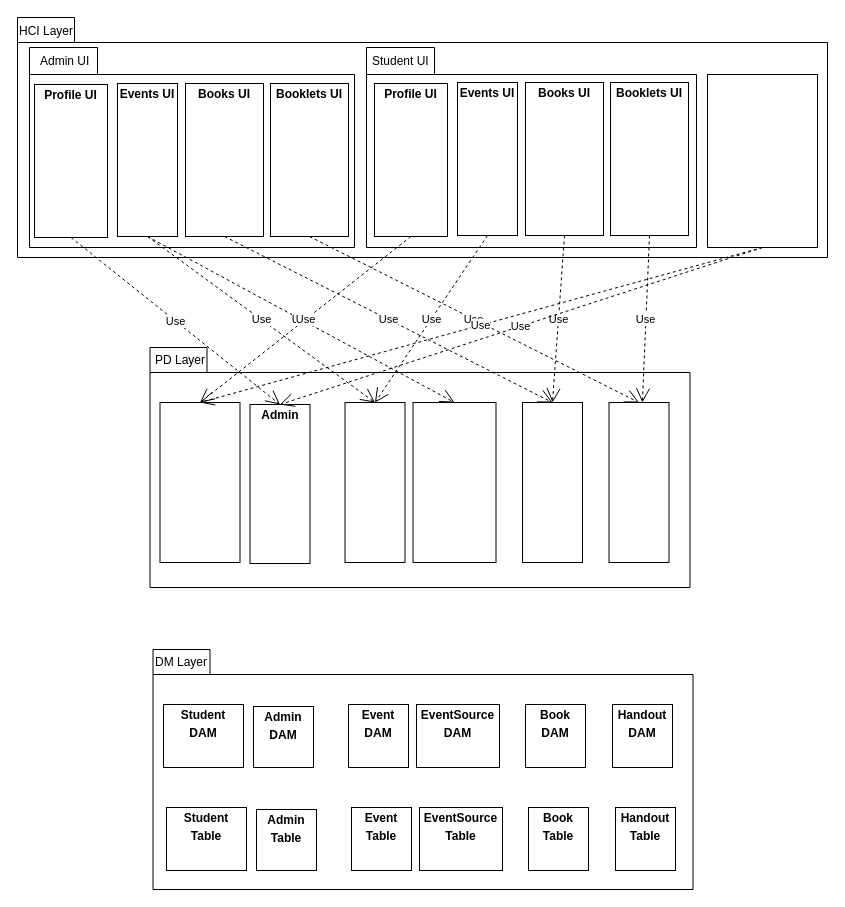
Some shapes in this 845 by 907 pixel diagram are drawn without their labels. Here are the shapes that lost their labels. From the top down, the centre of each, then its label:
point (762, 161): Login UI
point (199, 482): Student
point (374, 482): Event
point (454, 482): EventSource
point (552, 482): Book
point (638, 482): Handout
